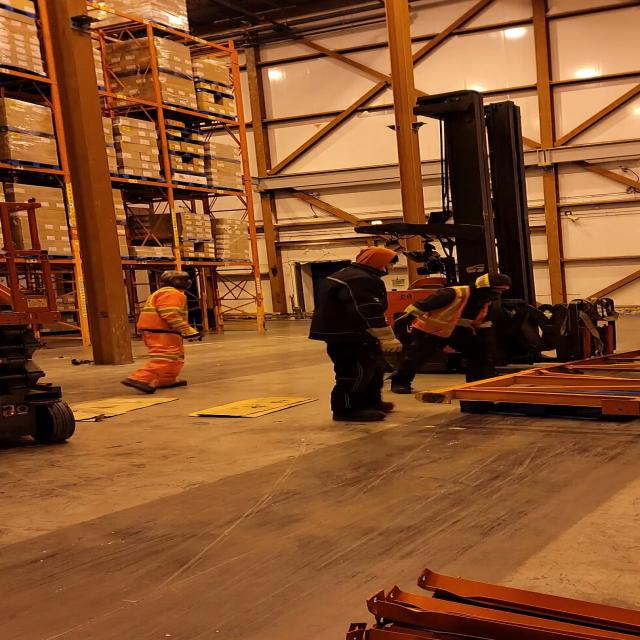forklift: (351, 99, 629, 389)
human: (298, 246, 416, 430), (376, 266, 524, 397), (119, 270, 212, 394)
objectofinterest: (416, 339, 640, 422), (22, 394, 179, 425), (181, 396, 323, 419)
